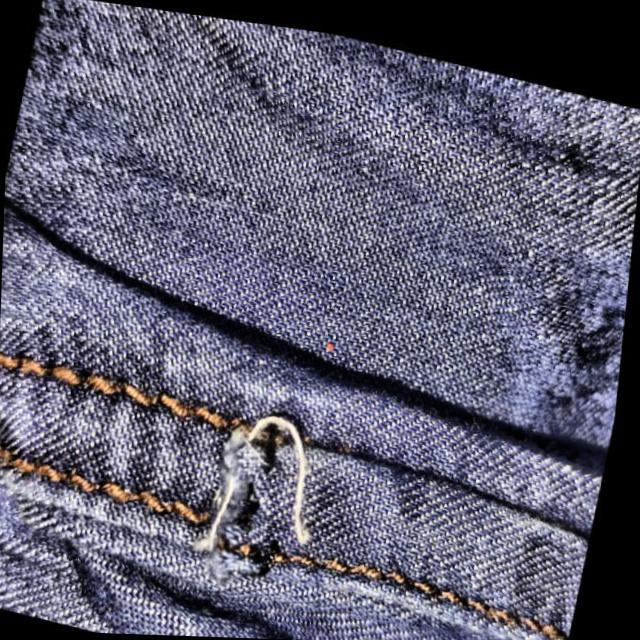Thread: (237, 413, 319, 549), (192, 462, 242, 562)
seam: (0, 339, 603, 640)
